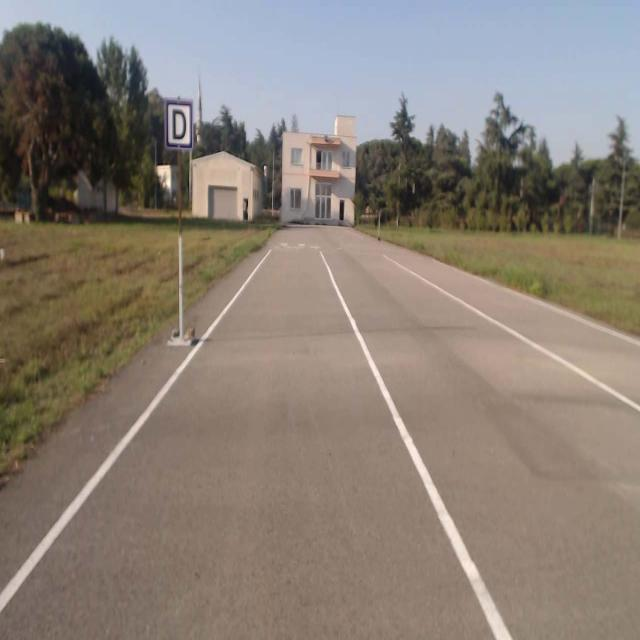durak: (164, 98, 193, 149)
